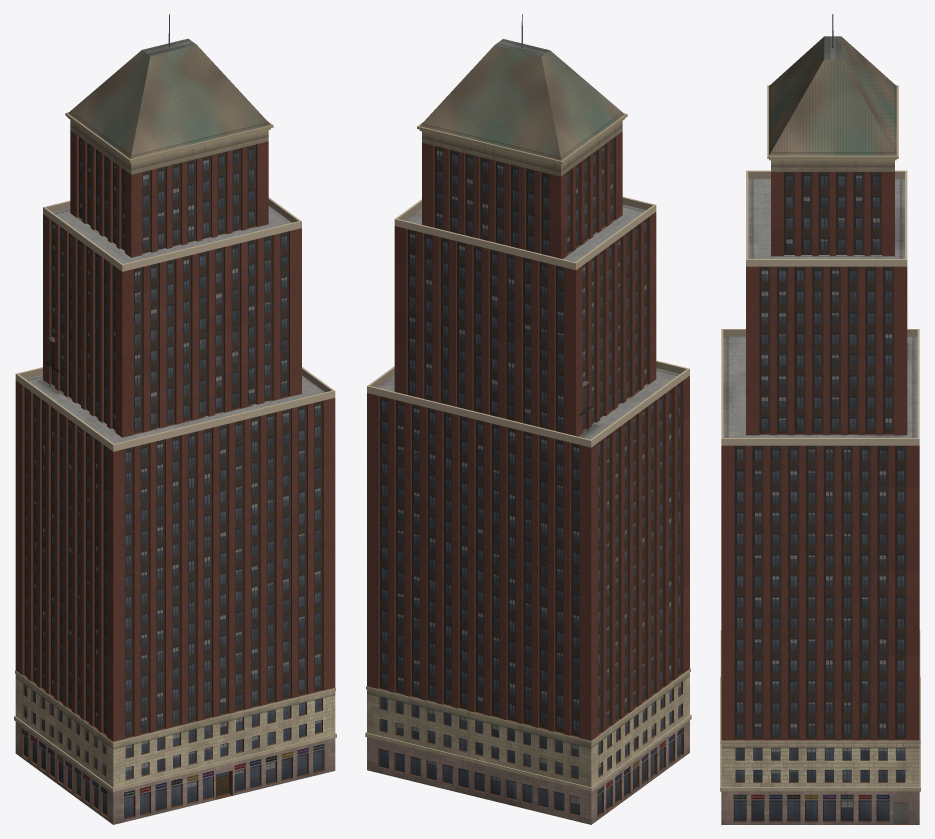
File: nyc_deco_d.glb
The picture shows the model from 3 angles, left to right: view 1: azimuth 30°, elevation 25°; view 2: azimuth 150°, elevation 25°; view 3: azimuth 270°, elevation 25°; orthographic projection.
Visible parts, largest first — view 1: nyc_deco_d; view 2: nyc_deco_d; view 3: nyc_deco_d.
Part boxes in pixels (left/top/right/bottom): nyc_deco_d: left=14, top=14, right=336, bottom=824; nyc_deco_d: left=365, top=14, right=691, bottom=824; nyc_deco_d: left=720, top=14, right=920, bottom=824.
Size of the model in its own units: 42.4 by 134 by 32.39.
Materials: 1 (1 with a texture image).
